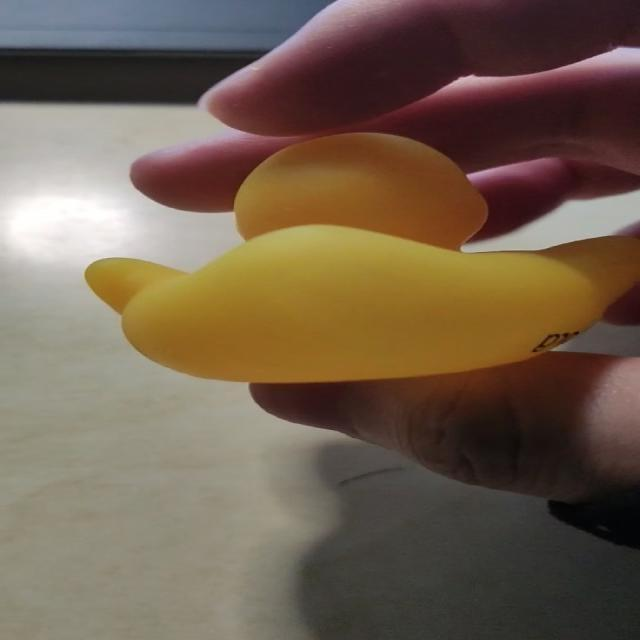rubber-duck: (84, 132, 638, 381)
